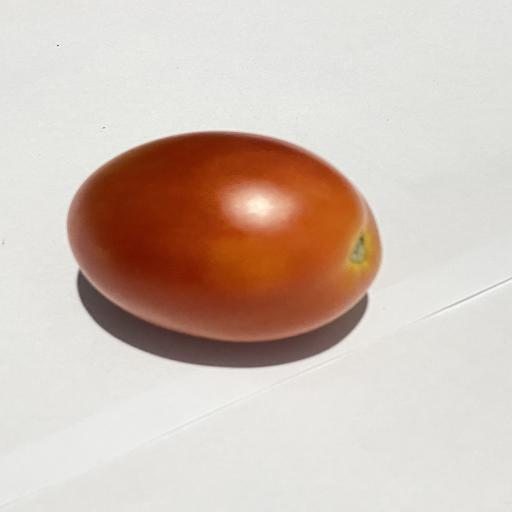ripe: (68, 132, 381, 342)
